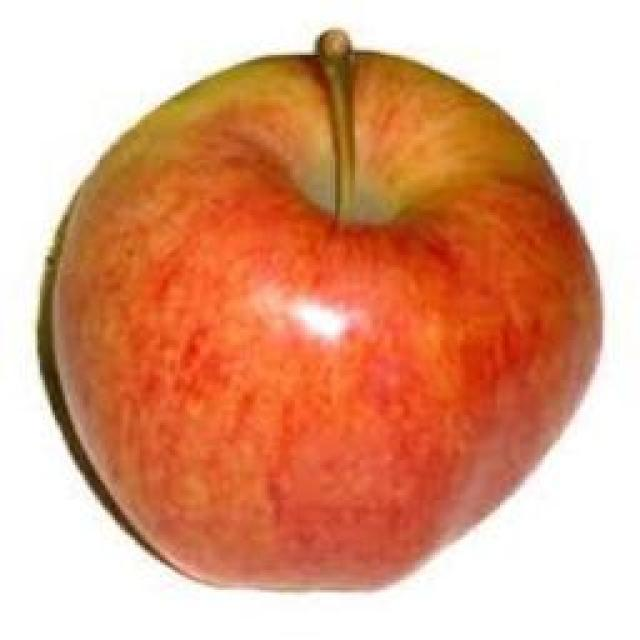Apple: (39, 30, 602, 588)
